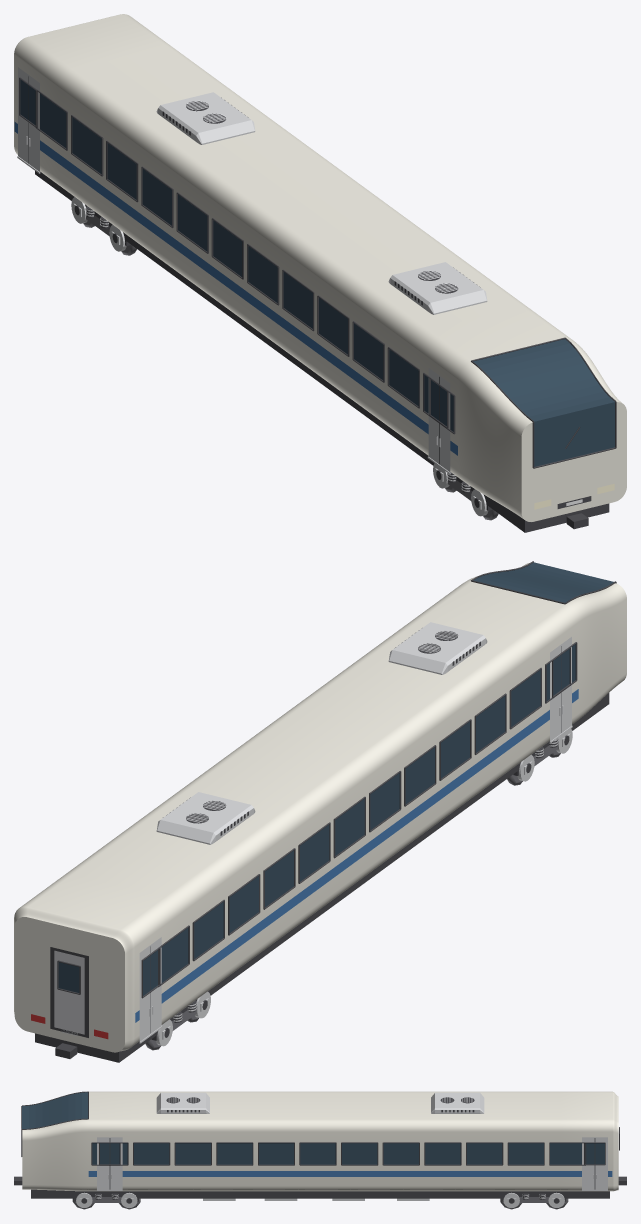
The model's file is 1_close.fbx.
3 views of the same model, one above another, from view 1: azimuth 30°, elevation 25°; view 2: azimuth 150°, elevation 25°; view 3: azimuth 270°, elevation 25° (orthographic). The views are drawn at different scales.
Parts seen in each view (by area): view 1: 21_1_close; view 2: 21_1_close; view 3: 21_1_close.
Boxes of the visible parts, box(x1,y1,x2,y2) form: 21_1_close: box(14, 14, 626, 532); 21_1_close: box(14, 561, 626, 1062); 21_1_close: box(14, 1091, 626, 1209).
Bounding box in the file's own units: 3.01 × 3.9 × 21.8.
